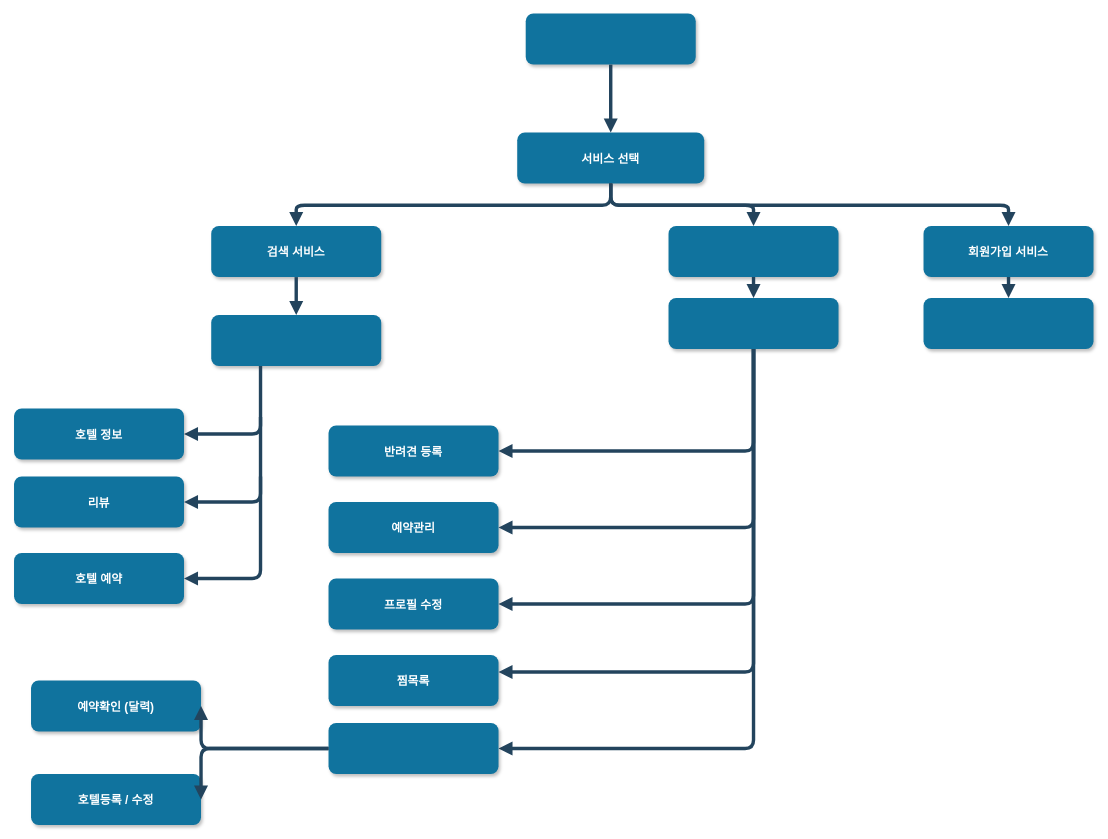
Image size: 1108x839. Some labels were removed from this diagram. Here are the shapes that lost their labels. From the top down, the centre of each, then its label:
At point (611, 40): "메인페이지".
At point (754, 252): "로그인 서비스".
At point (296, 341): "호텔 리스트".
At point (754, 324): "마이페이지".
At point (1009, 324): "소셜 로그인".
At point (414, 749): "호스트 호텔 관리".
